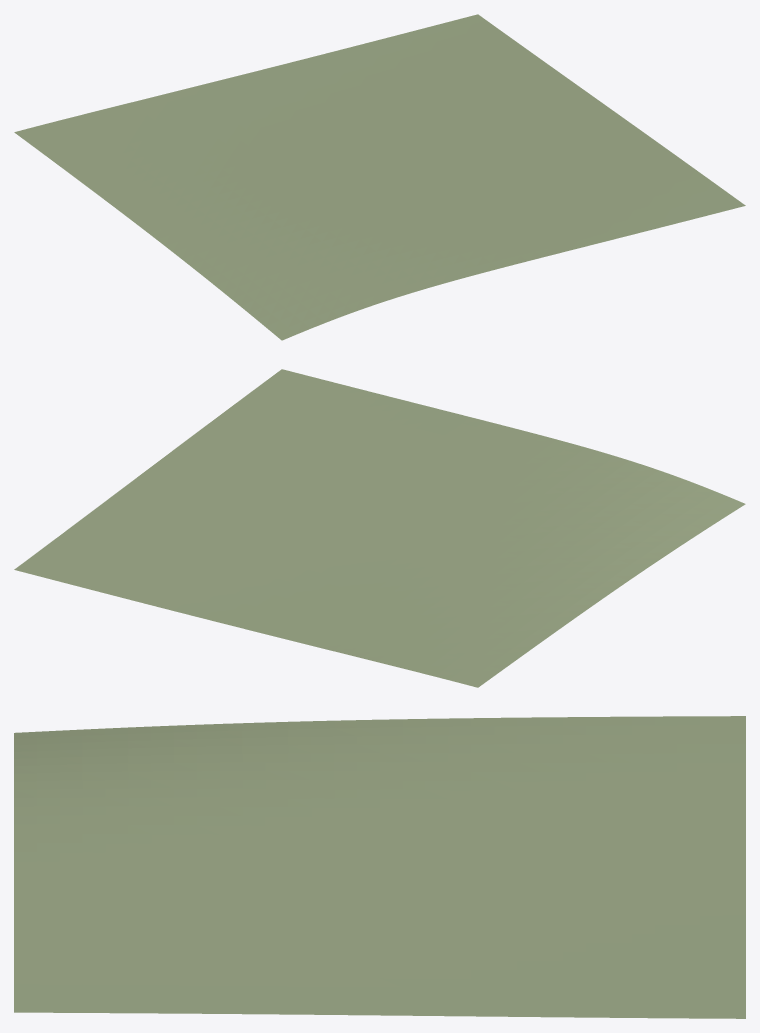
File: desert-12-16.glb
3 views of the same model, one above another, from view 1: azimuth 30°, elevation 25°; view 2: azimuth 150°, elevation 25°; view 3: azimuth 270°, elevation 25° (orthographic). The views are drawn at different scales.
Parts seen in each view (by area): view 1: desert-12-16; view 2: desert-12-16; view 3: desert-12-16.
Boxes of the visible parts, x1=… form: desert-12-16: x1=14, y1=14, x2=745, y2=340; desert-12-16: x1=14, y1=369, x2=745, y2=687; desert-12-16: x1=14, y1=716, x2=745, y2=1018.
Bounding box in the file's own units: 512 × 22.87 × 512.
